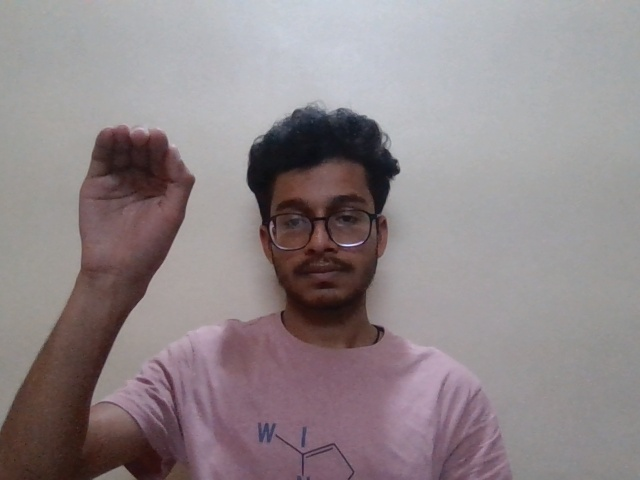sound: (66, 112, 210, 294)
